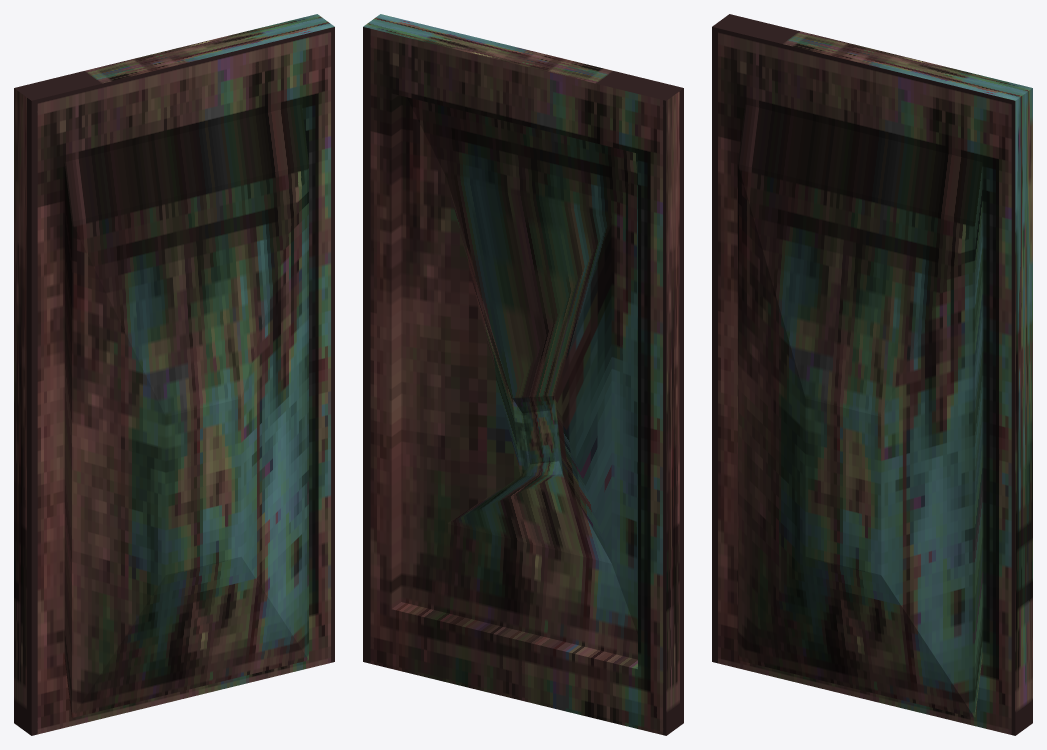
File: grueldoorkick.fbx
3 views of the same model, side by side, from view 1: azimuth 30°, elevation 25°; view 2: azimuth 150°, elevation 25°; view 3: azimuth 330°, elevation 25° (orthographic).
Visible parts, largest first — view 1: Cube; view 2: Cube; view 3: Cube.
Part boxes in pixels (x1,y1,x2,y2): Cube: (14, 14, 334, 735); Cube: (363, 14, 683, 735); Cube: (712, 14, 1032, 735).
Bounding box in the file's own units: 100 × 200 × 21.63.
Materials: 1 (1 with a texture image).
